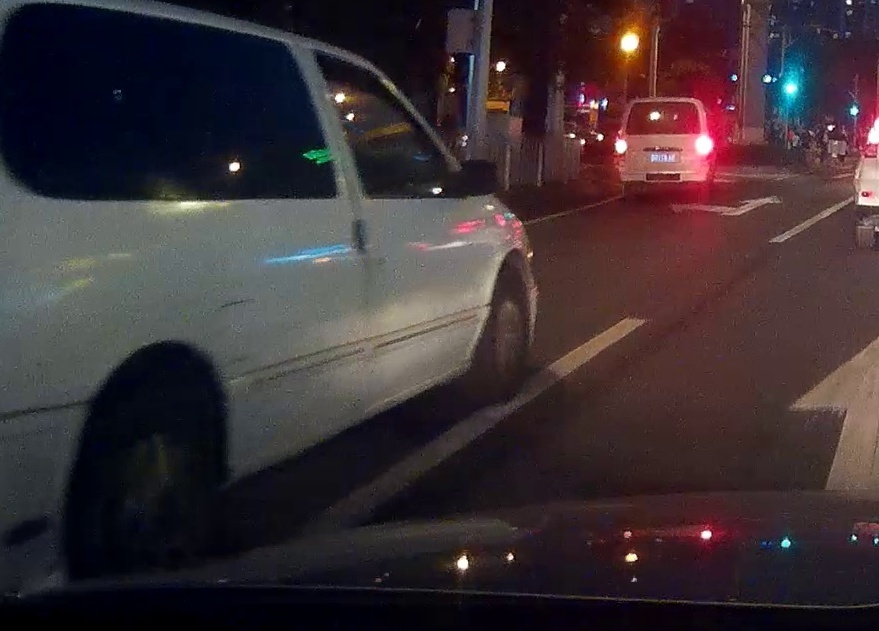L_light: (616, 138, 626, 160)
R_light: (696, 135, 711, 161)
T_light: (657, 102, 671, 107)
night-right: (615, 97, 711, 203)
